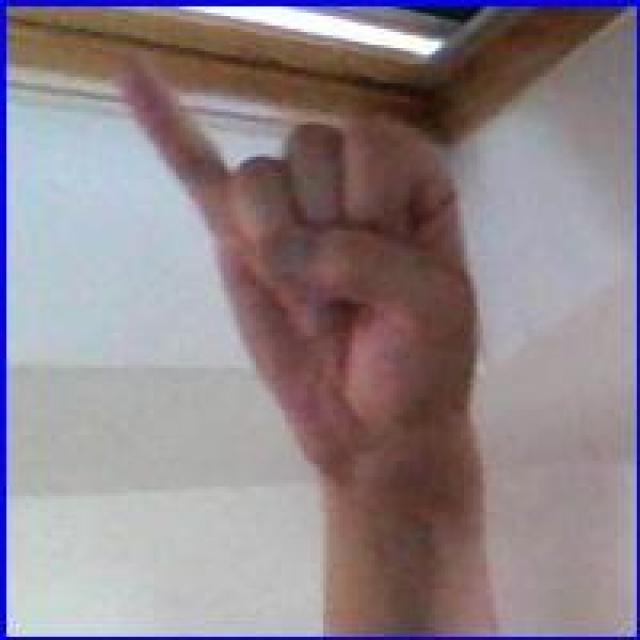I: (88, 37, 494, 501)
